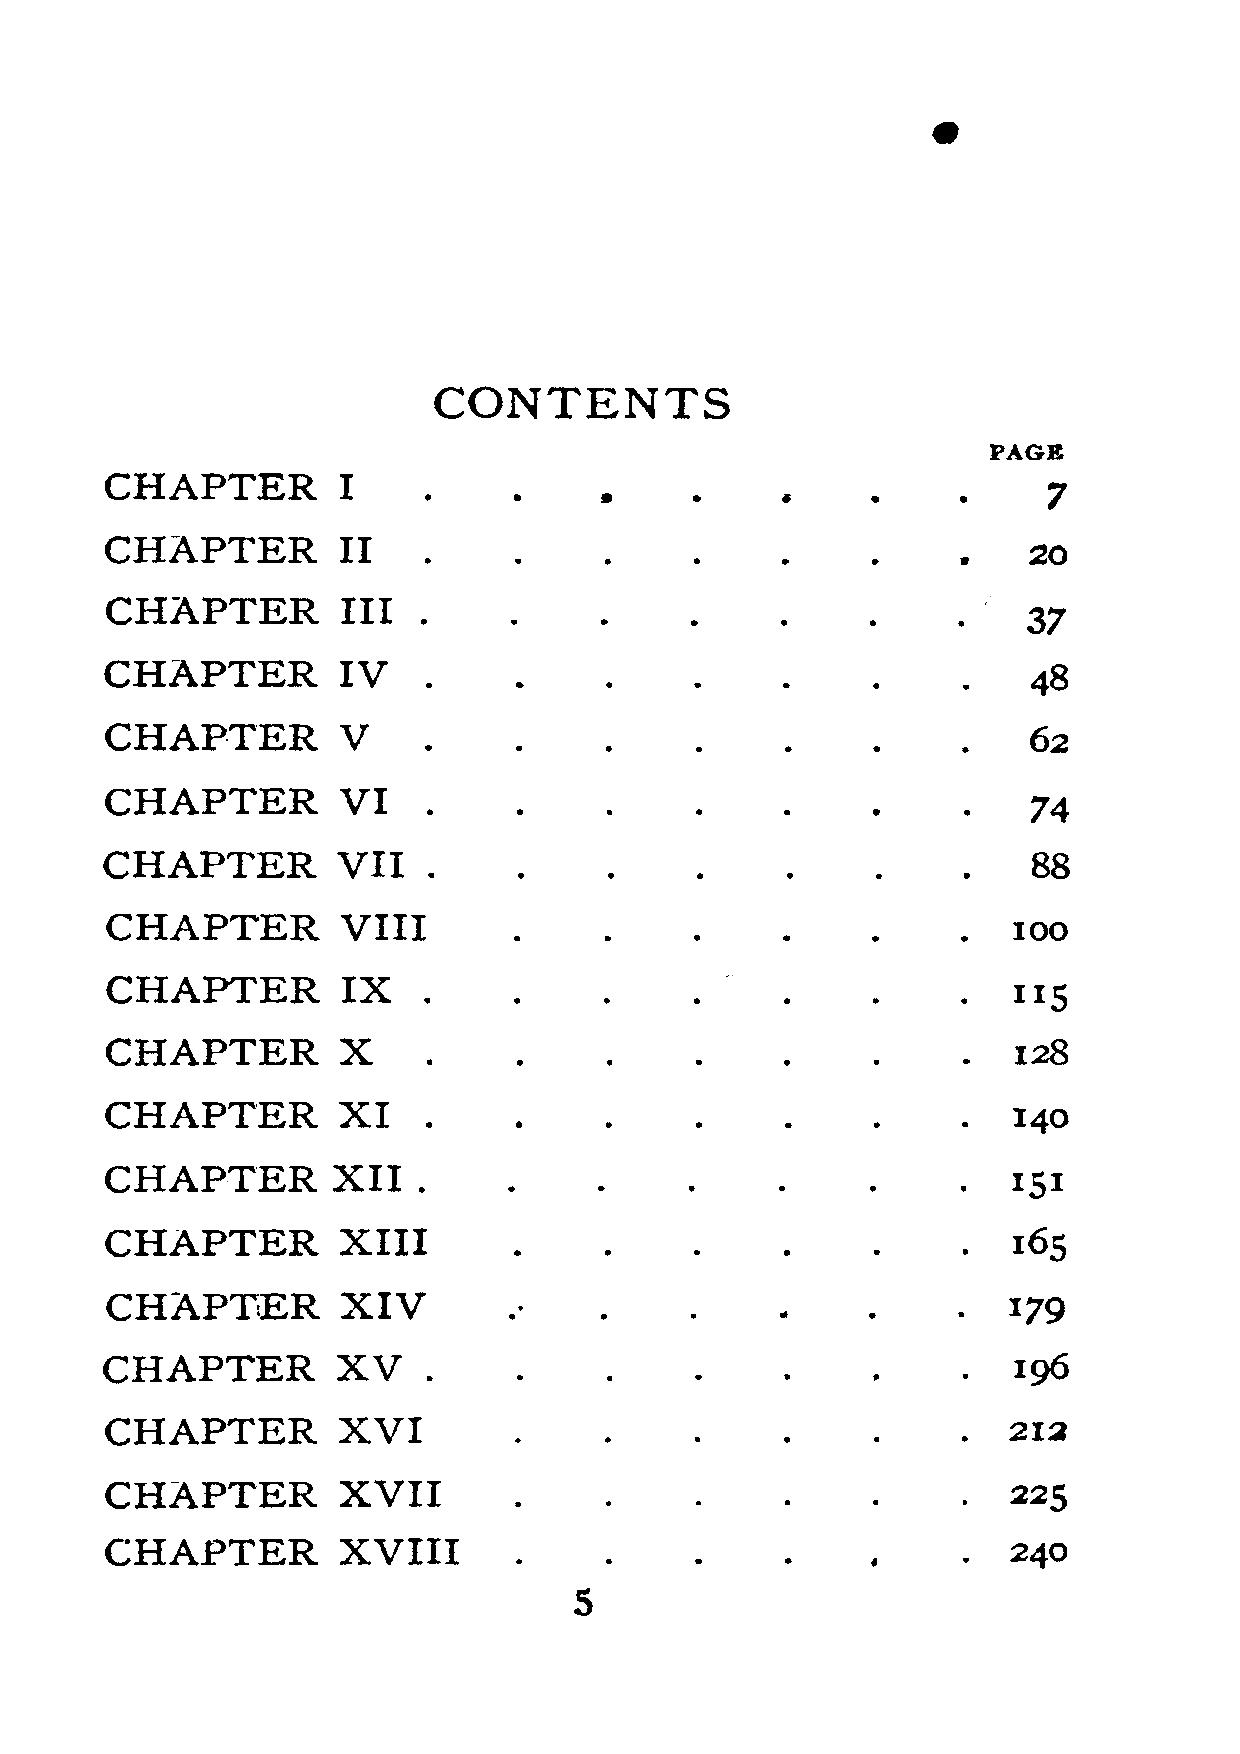TOC_chapter: (99, 1469, 446, 1512), (101, 1533, 462, 1570), (99, 966, 393, 1011), (99, 1224, 432, 1263), (102, 1409, 421, 1449), (99, 588, 397, 628), (99, 907, 429, 943), (99, 841, 405, 880), (101, 527, 374, 570), (101, 652, 388, 692), (101, 1158, 403, 1194), (102, 1095, 391, 1133), (97, 1351, 405, 1386), (101, 1031, 376, 1070), (103, 717, 372, 756), (101, 466, 354, 506), (102, 784, 391, 819), (102, 1290, 429, 1319)
TOC_pagenumber: (1002, 1224, 1068, 1264), (1008, 1096, 1071, 1138), (1008, 1164, 1070, 1202), (1002, 1290, 1064, 1326), (1004, 1535, 1066, 1570), (1023, 786, 1075, 827), (1011, 1031, 1071, 1066), (1013, 1351, 1071, 1388), (1001, 1414, 1071, 1444), (1006, 1478, 1066, 1512), (1004, 982, 1072, 1012), (1027, 844, 1072, 886), (1021, 599, 1068, 637), (1023, 660, 1070, 697), (1024, 535, 1071, 570), (1027, 722, 1074, 757), (1009, 919, 1070, 943), (1041, 472, 1070, 513)
chapter: (429, 377, 734, 421)
